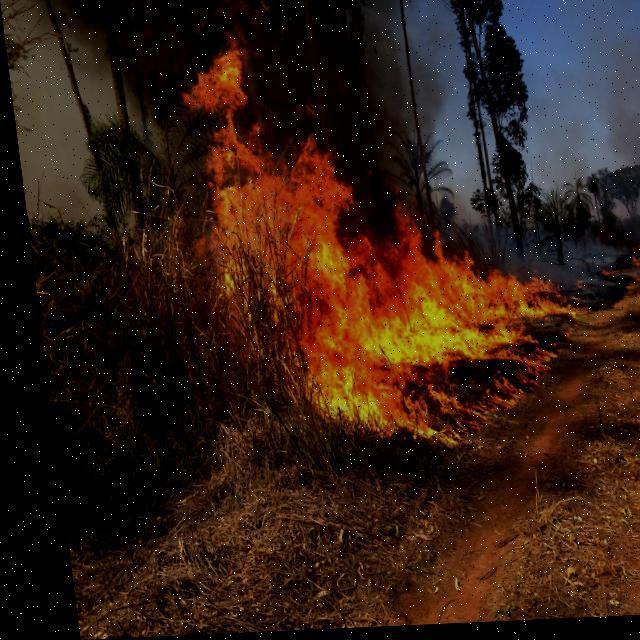Fire: (171, 24, 601, 450)
